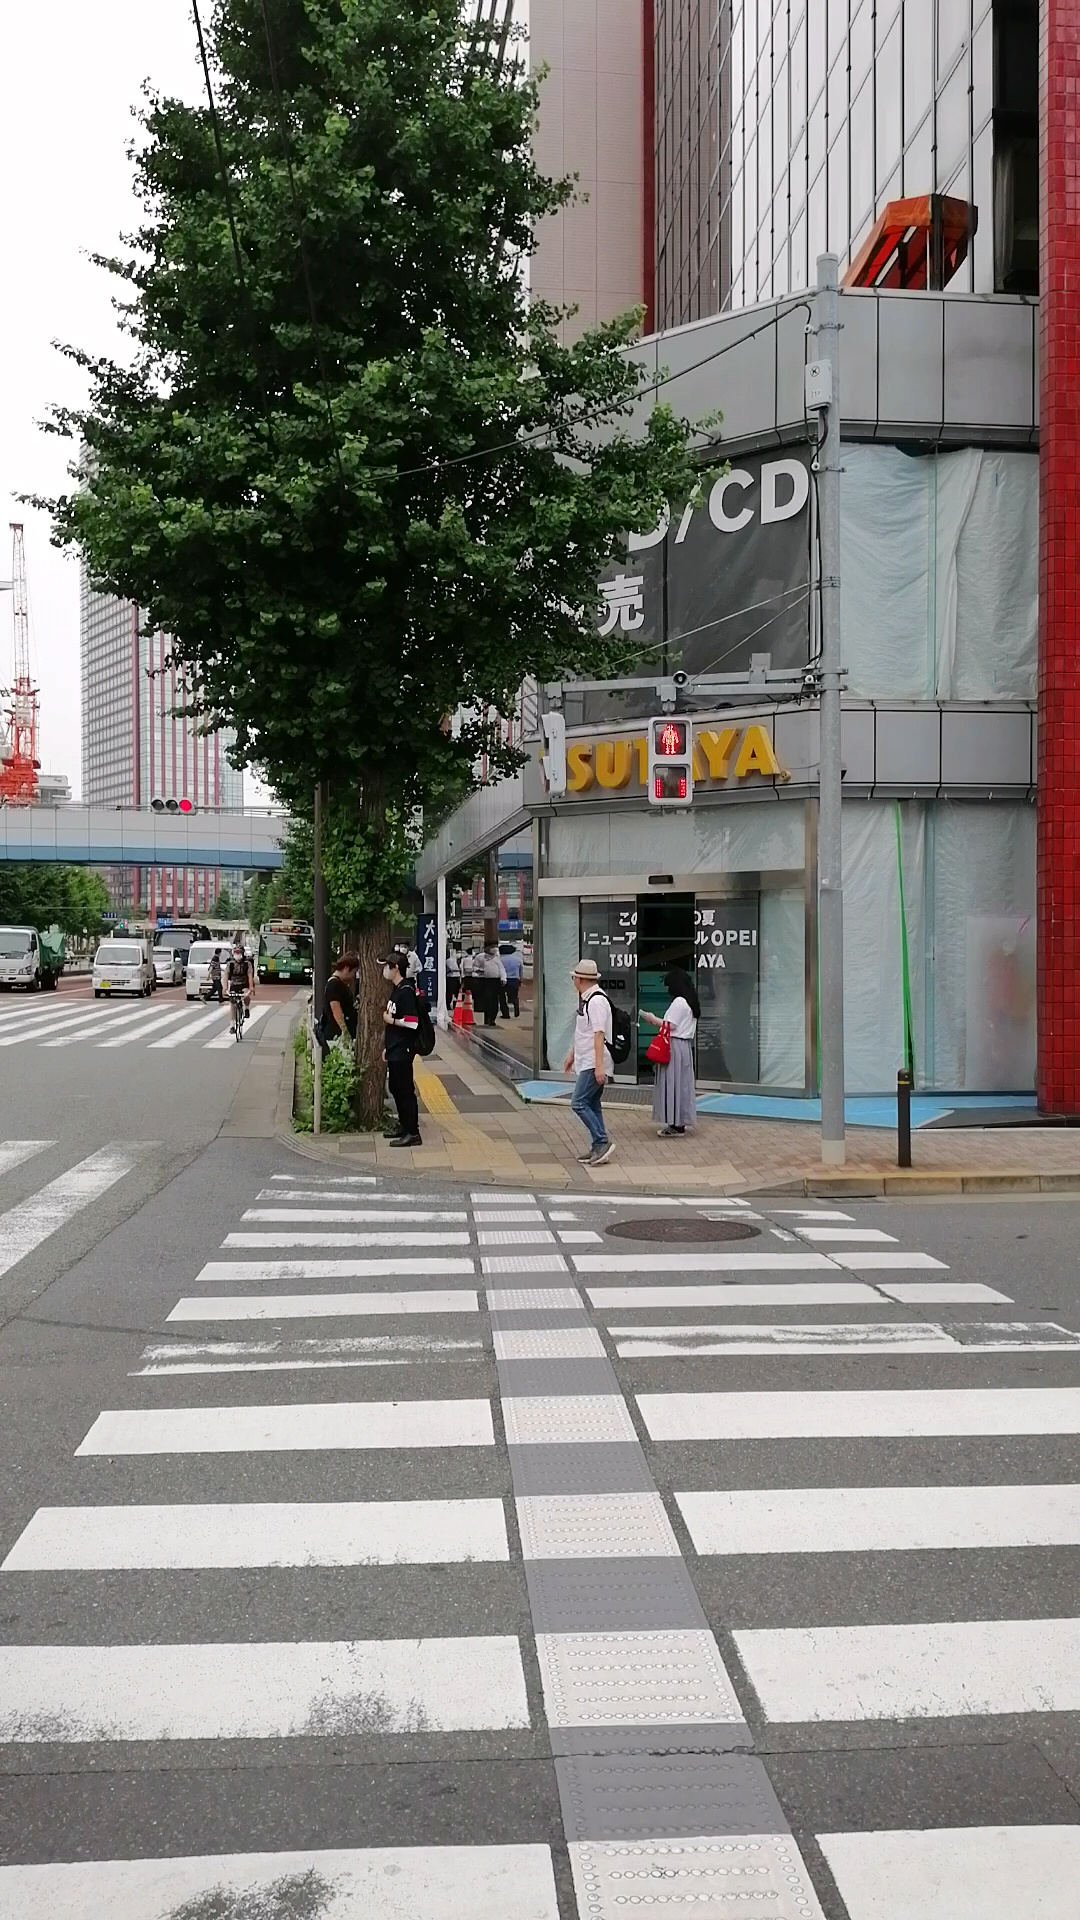red: (646, 713, 692, 808)
